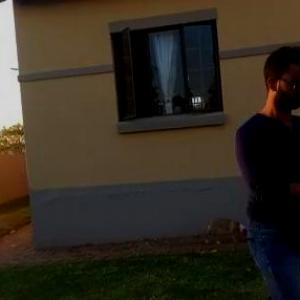follow: (229, 41, 299, 299)
null: (192, 213, 254, 247)
